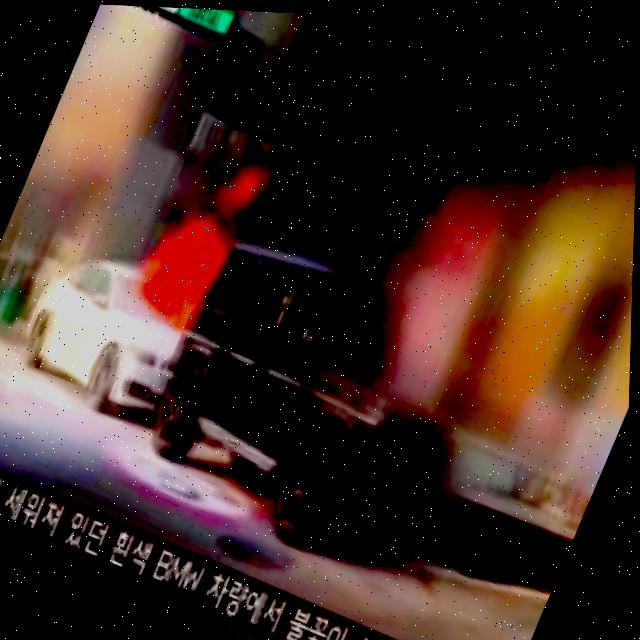Fire: (145, 248, 210, 329)
Smoke: (177, 6, 433, 290)
